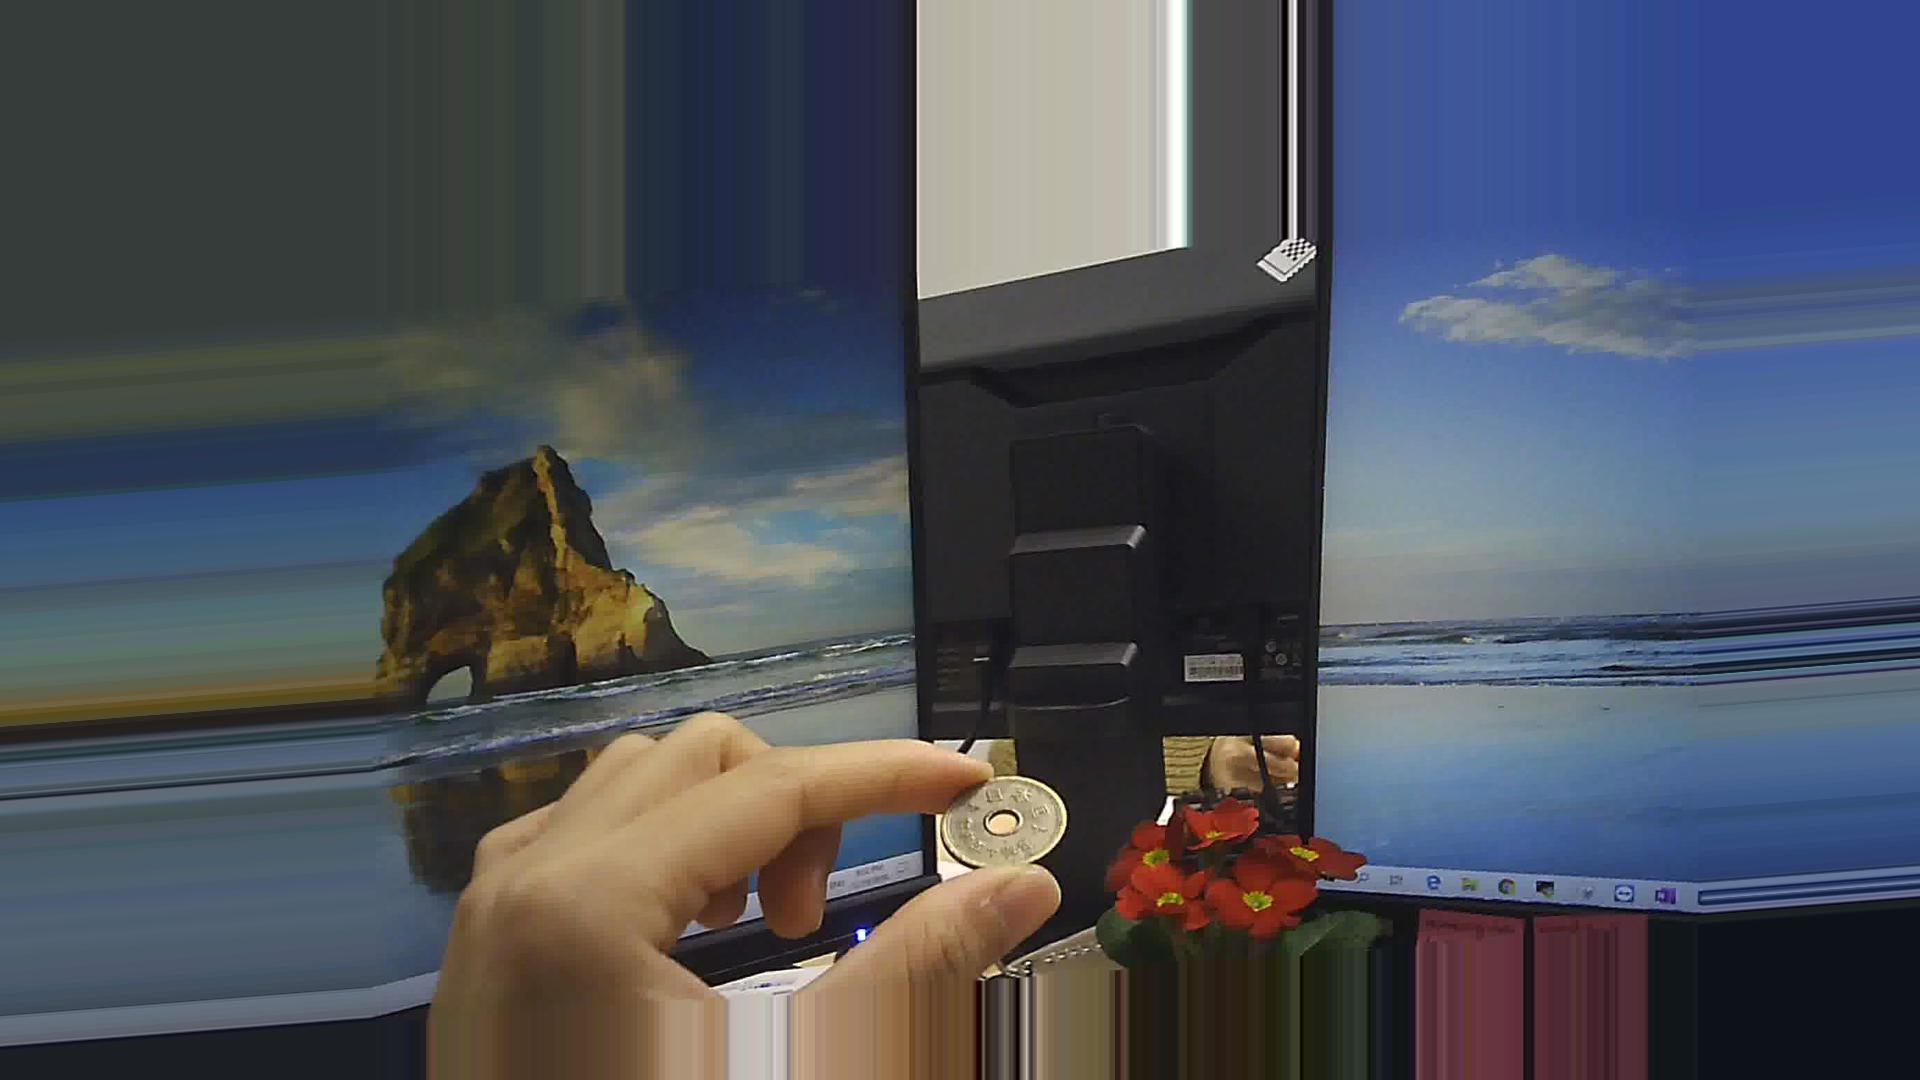5 Yen: (942, 765, 1062, 880)
